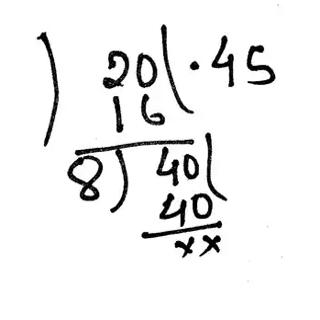.: (187, 53, 203, 78)
0: (131, 47, 158, 88), (189, 189, 214, 222), (180, 152, 202, 183)
1: (108, 90, 126, 135)
2: (97, 46, 134, 92)
4: (209, 24, 236, 92), (156, 190, 190, 228), (149, 149, 181, 189)
5: (241, 36, 280, 91)
6: (136, 89, 169, 133)
8: (65, 155, 106, 207)
